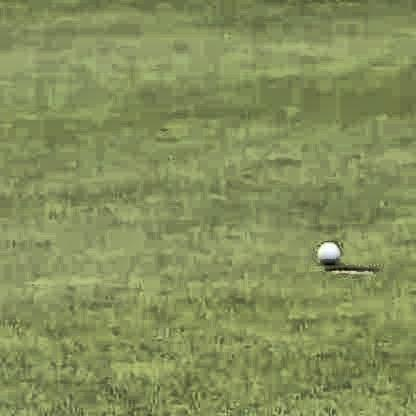golfball: (315, 236, 339, 263)
